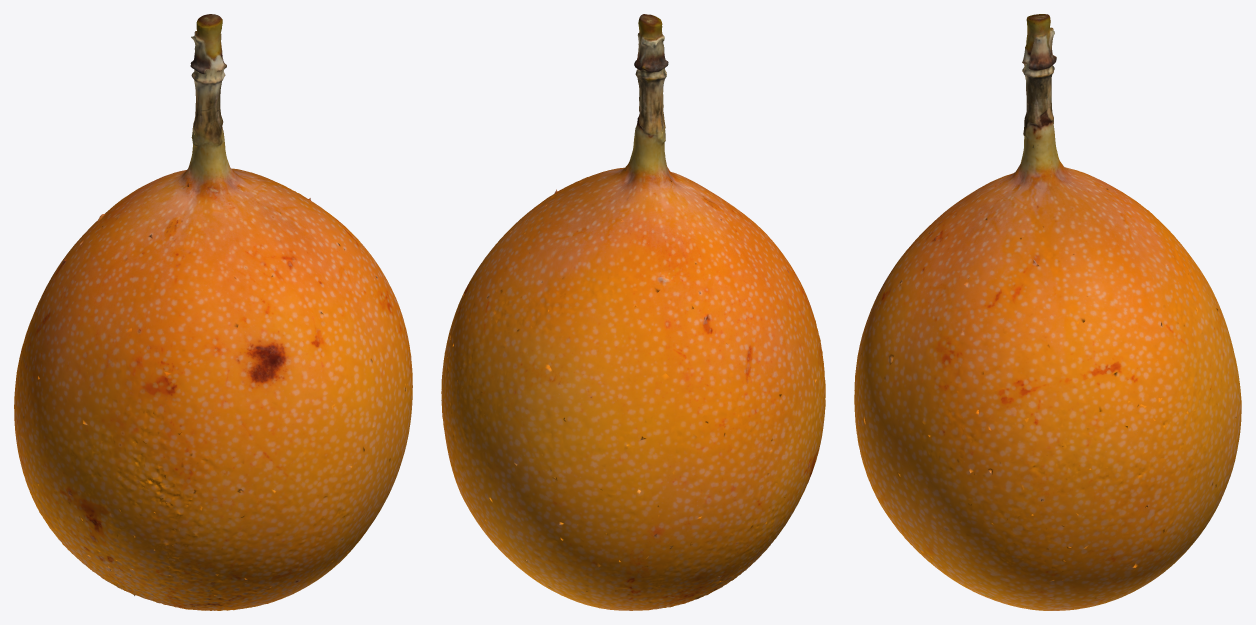
Rendered from granadilla.fbx.
The picture shows the model from 3 angles, left to right: view 1: azimuth 30°, elevation 25°; view 2: azimuth 150°, elevation 25°; view 3: azimuth 270°, elevation 25°; orthographic projection. The views are drawn at different scales.
Visible parts, largest first — view 1: Granadilla_100k; view 2: Granadilla_100k; view 3: Granadilla_100k.
Boxes of the visible parts, x1,y1,x2,y2 form: Granadilla_100k: [14, 14, 412, 610]; Granadilla_100k: [441, 14, 825, 610]; Granadilla_100k: [854, 14, 1241, 610].
Bounding box in the file's own units: 157 × 256 × 157.
